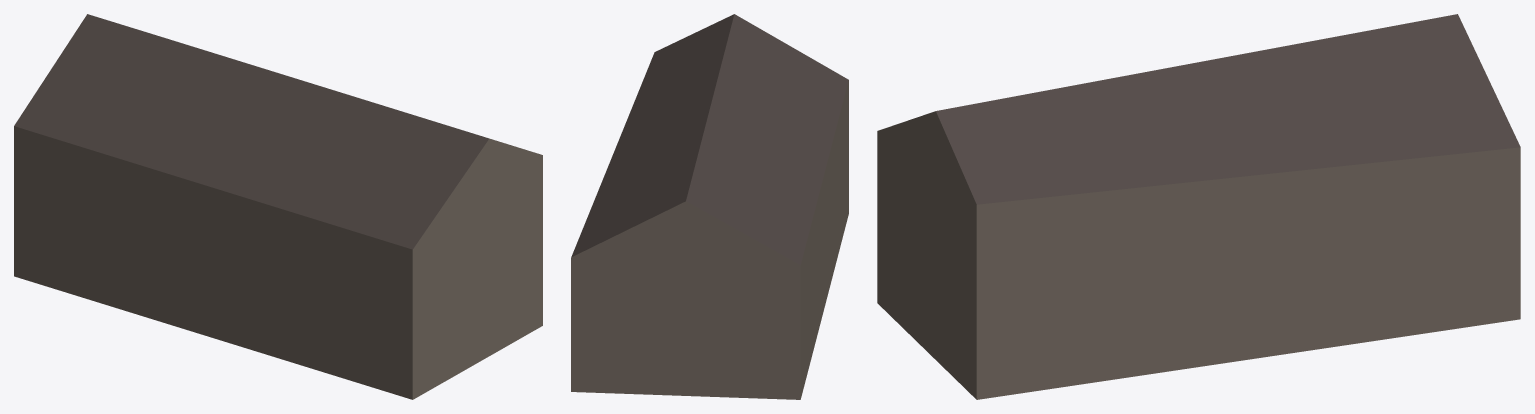
3 views of the same model, side by side, from view 1: azimuth 30°, elevation 25°; view 2: azimuth 150°, elevation 25°; view 3: azimuth 270°, elevation 25° (orthographic). The views are drawn at different scales.
Visible parts, largest first — view 1: HP-w1512480747; view 2: HP-w1512480747; view 3: HP-w1512480747.
Part boxes in pixels (x1,y1,x2,y2): HP-w1512480747: (14, 14, 542, 399); HP-w1512480747: (571, 14, 848, 399); HP-w1512480747: (877, 14, 1520, 399).
Size of the model in its own units: 21.69 by 13.03 by 30.52.
